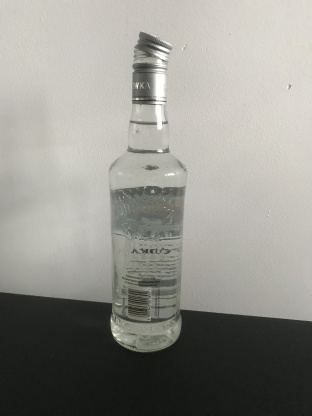nakretka: (130, 27, 174, 105)
